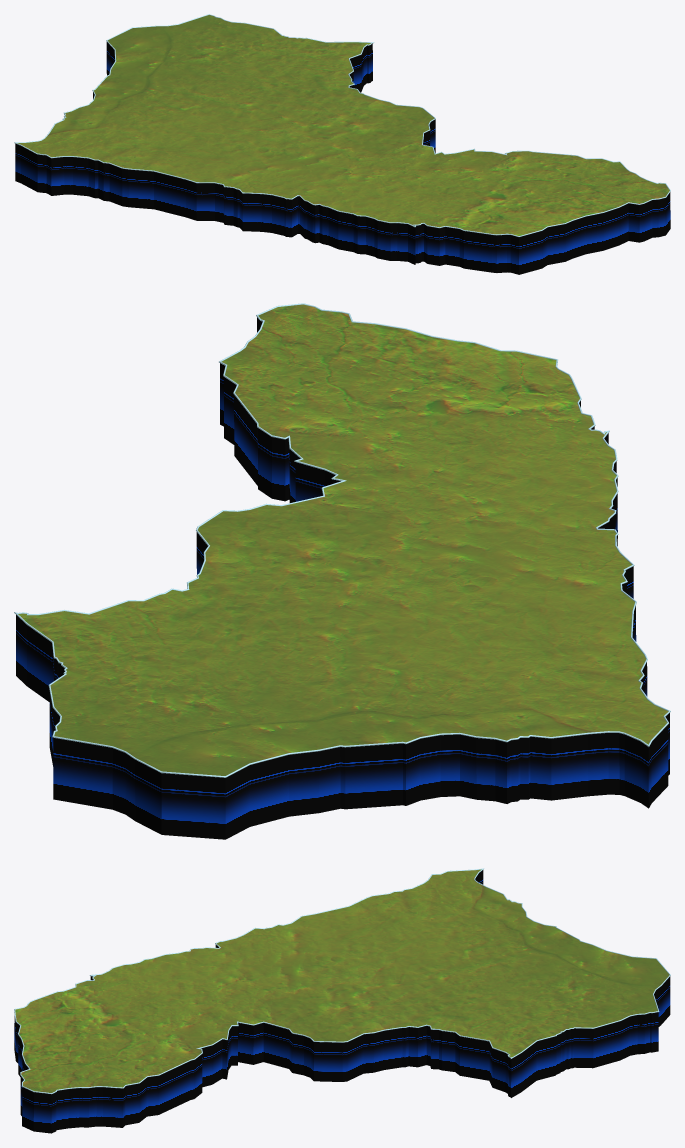
3 renders of one model, top to bottom at view 1: azimuth 30°, elevation 25°; view 2: azimuth 150°, elevation 25°; view 3: azimuth 270°, elevation 25°, orthographic. The views are drawn at different scales.
Visible parts, largest first — view 1: 挤压-材质, 挤压-材质.1, 边缘; view 2: 挤压-材质, 挤压-材质.1, 边缘; view 3: 挤压-材质, 挤压-材质.1, 边缘.
Part boxes in pixels (x1,y1,x2,y2): 挤压-材质: (17, 15, 669, 235); 挤压-材质.1: (15, 42, 670, 274); 边缘: (14, 14, 670, 236); 挤压-材质: (18, 304, 668, 775); 挤压-材质.1: (16, 317, 669, 839); 边缘: (14, 303, 670, 777); 挤压-材质: (15, 869, 669, 1092); 挤压-材质.1: (14, 870, 670, 1133); 边缘: (14, 868, 670, 1094).
Bounding box in the file's own units: 244 × 21.78 × 299.
Materials: 3 (2 with a texture image).
